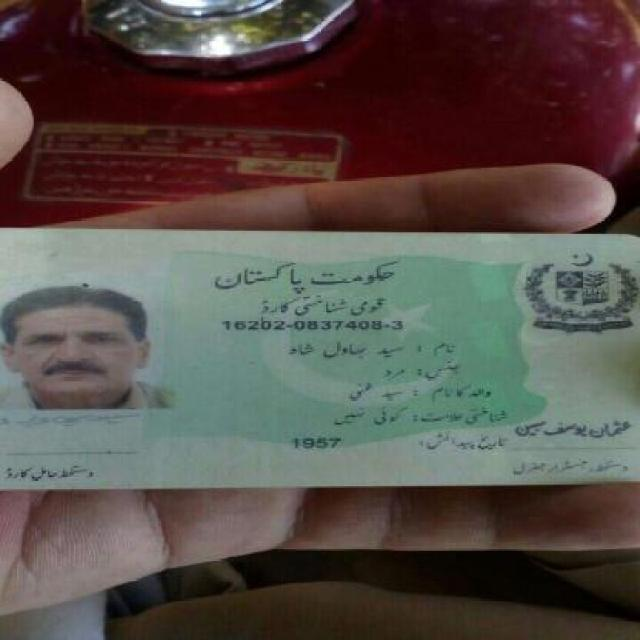Front: (0, 211, 634, 492)
